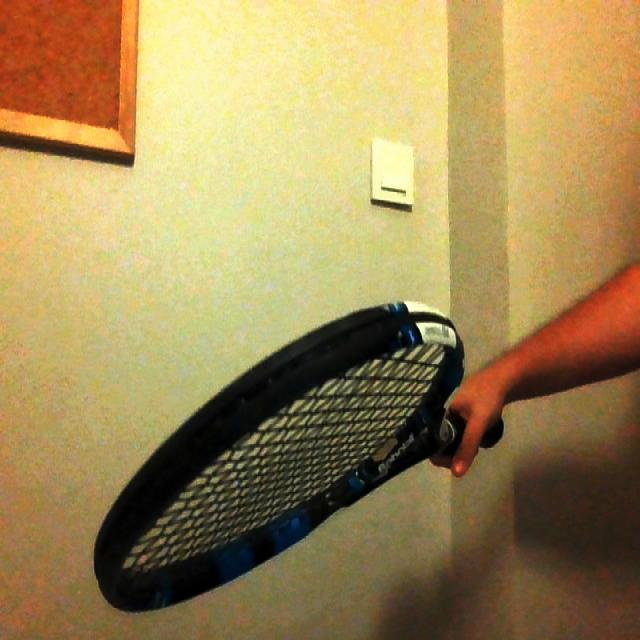TennisRacket: (90, 304, 498, 609)
